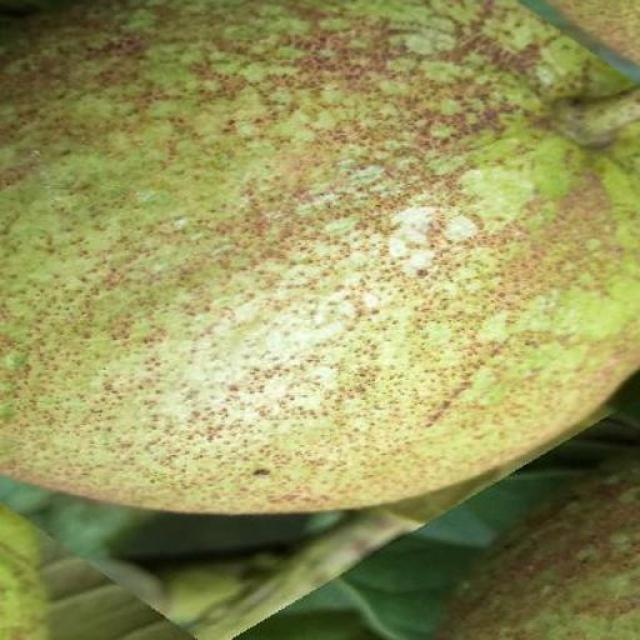Scab: (0, 0, 640, 512)
